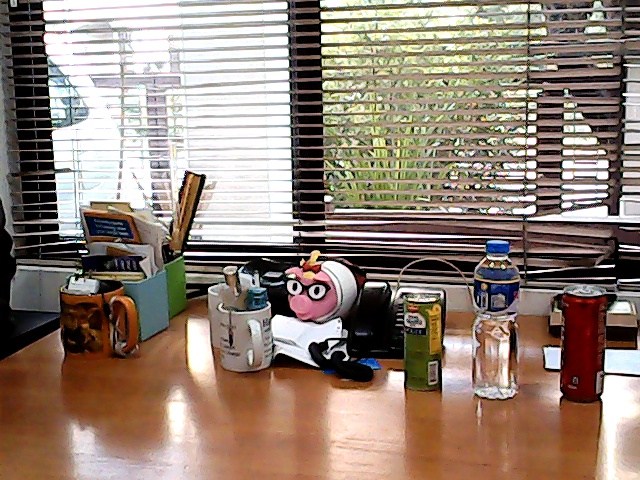Cola: (544, 273, 618, 417)
Pine Juice: (395, 281, 455, 398)
Summit Water: (460, 232, 533, 409)
